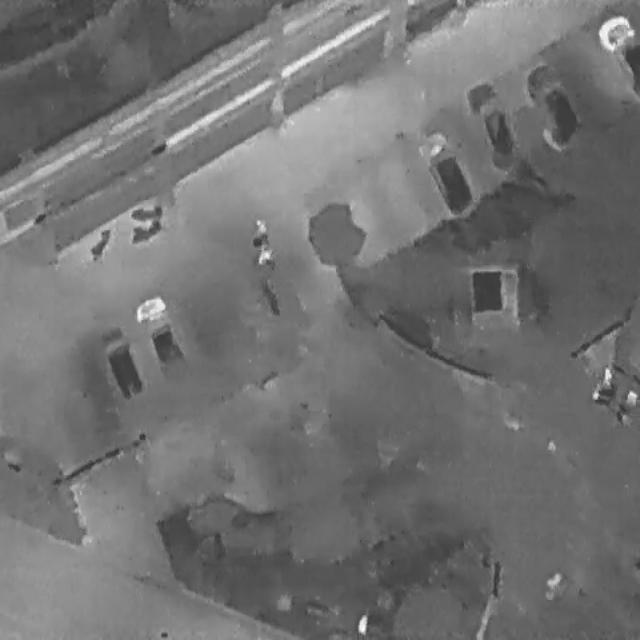Bicycle: (84, 221, 112, 265), (127, 216, 162, 246), (128, 202, 162, 222)
Car: (518, 52, 586, 156), (461, 70, 525, 172), (414, 124, 479, 222), (130, 289, 188, 380), (95, 319, 147, 405), (597, 12, 638, 96)
Person: (251, 241, 275, 270), (253, 214, 264, 234)
